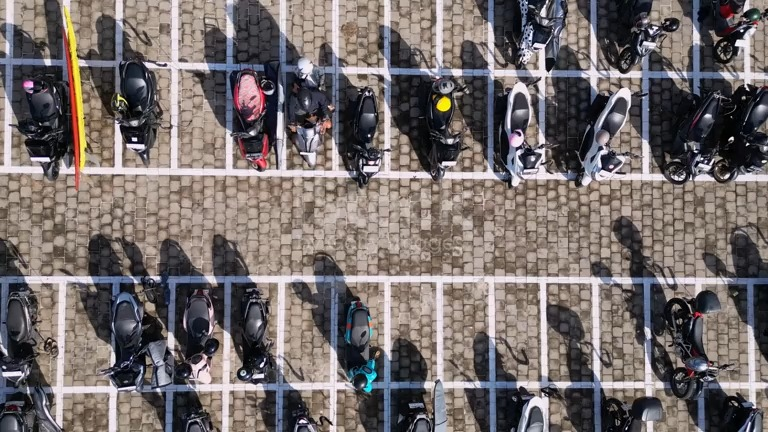car: (664, 290, 733, 399), (662, 91, 734, 184), (10, 74, 73, 179), (576, 88, 635, 186), (713, 84, 767, 182), (111, 57, 159, 165), (499, 82, 548, 187), (615, 0, 679, 73), (286, 70, 334, 167), (100, 292, 145, 390), (424, 78, 467, 180), (231, 69, 274, 170), (347, 87, 389, 187), (0, 287, 41, 386), (176, 289, 219, 383), (707, 0, 767, 63), (511, 0, 565, 70), (237, 286, 273, 383), (345, 297, 378, 393)
